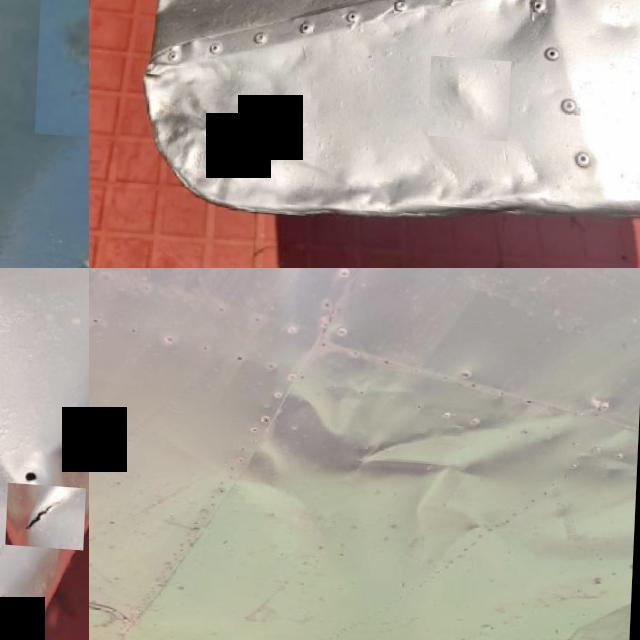Crack: (8, 478, 89, 545)
Dent: (226, 330, 594, 548), (269, 115, 568, 258), (135, 38, 302, 206), (0, 283, 89, 546), (37, 0, 89, 135), (432, 50, 514, 134), (481, 0, 583, 63), (577, 0, 640, 54)
